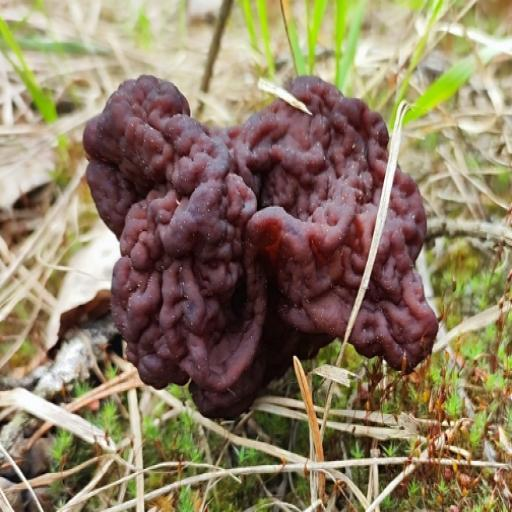mushroom: (76, 56, 442, 398)
